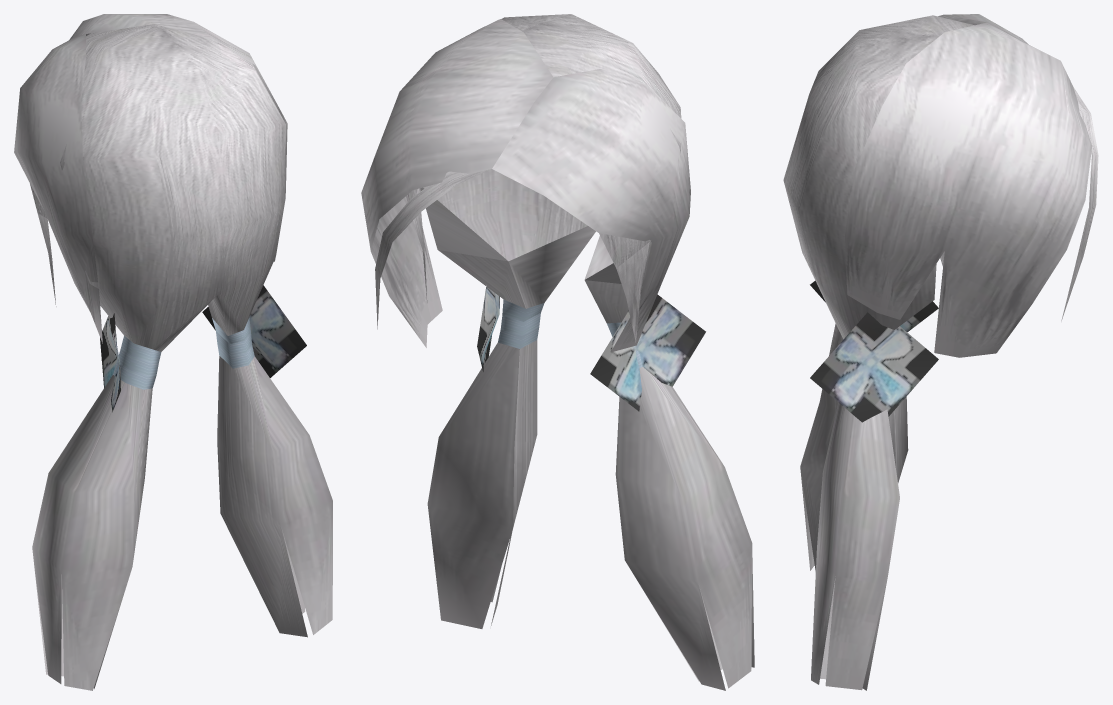
The model's file is Wizard female hair 38.glb.
3 views of the same model, side by side, from view 1: azimuth 30°, elevation 25°; view 2: azimuth 150°, elevation 25°; view 3: azimuth 270°, elevation 25° (orthographic). The views are drawn at different scales.
Visible parts, largest first — view 1: Object68_0, Object68_1; view 2: Object68_0, Object68_1; view 3: Object68_0, Object68_1.
Part boxes in pixels (box(x1,y1,x2,y2)): Object68_0: box(14, 14, 332, 690); Object68_1: box(100, 285, 306, 412); Object68_0: box(361, 14, 754, 690); Object68_1: box(477, 285, 705, 411); Object68_0: box(783, 14, 1098, 690); Object68_1: box(810, 280, 938, 422).
Size of the model in its own units: 0.1845 by 0.3805 by 0.1785.
2 materials, 2 textured.
